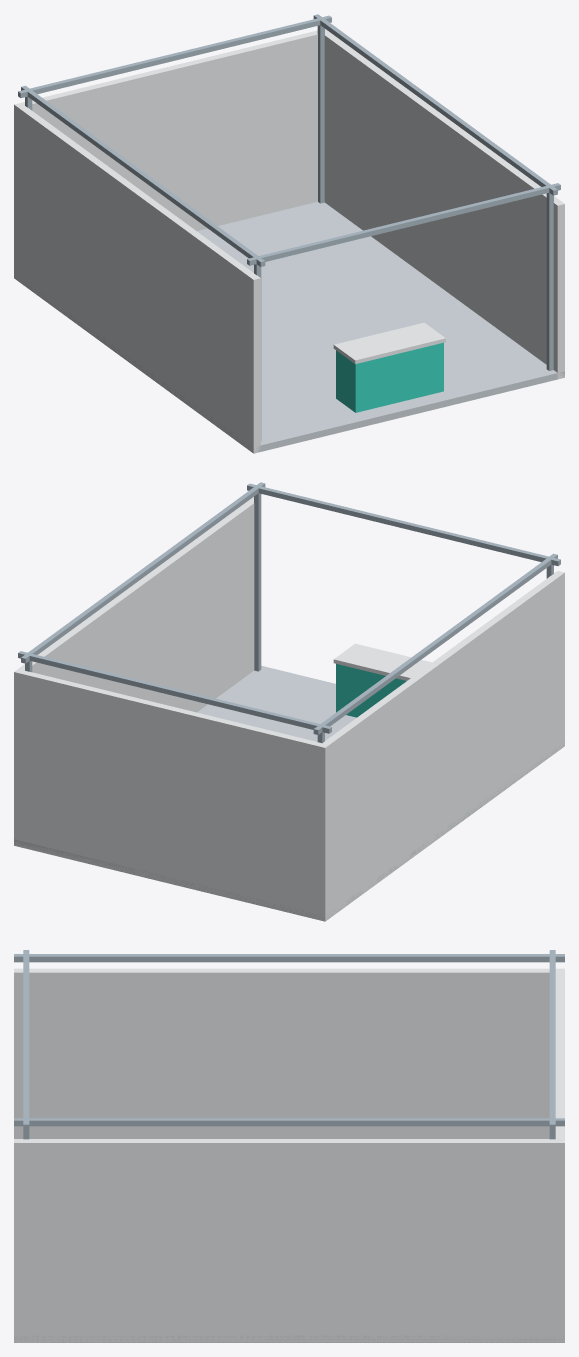
3 views of the same model, one above another, from view 1: azimuth 30°, elevation 25°; view 2: azimuth 150°, elevation 25°; view 3: azimuth 270°, elevation 25° (orthographic). The views are drawn at different scales.
Parts seen in each view (by area): view 1: Exhibition Booth Concept; view 2: Exhibition Booth Concept; view 3: Exhibition Booth Concept.
Boxes of the visible parts, x1,y1,x2,y2 form: Exhibition Booth Concept: [14, 14, 564, 453]; Exhibition Booth Concept: [14, 482, 564, 921]; Exhibition Booth Concept: [14, 950, 564, 1342].
Size of the model in its own units: 6 by 3.49 by 8.
